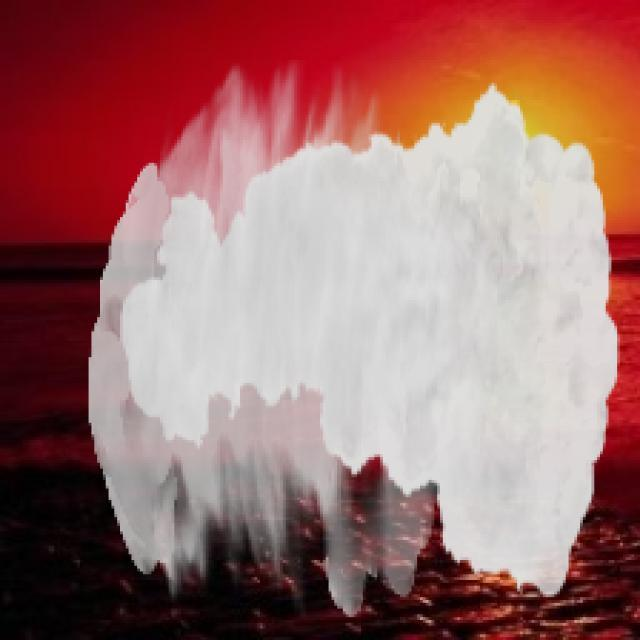Smoke: (89, 60, 620, 617)
